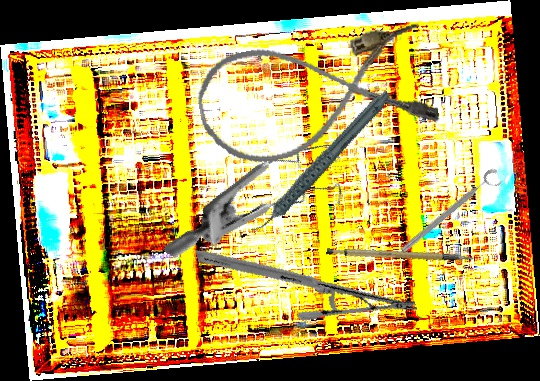Cannula: (190, 17, 442, 174)
Fixation Ring: (398, 166, 506, 261)
Handpiece: (225, 87, 414, 236)
Needle Holder: (195, 196, 418, 366)
Scalpel Handle: (325, 228, 474, 285)
Speculum: (162, 99, 364, 317)
